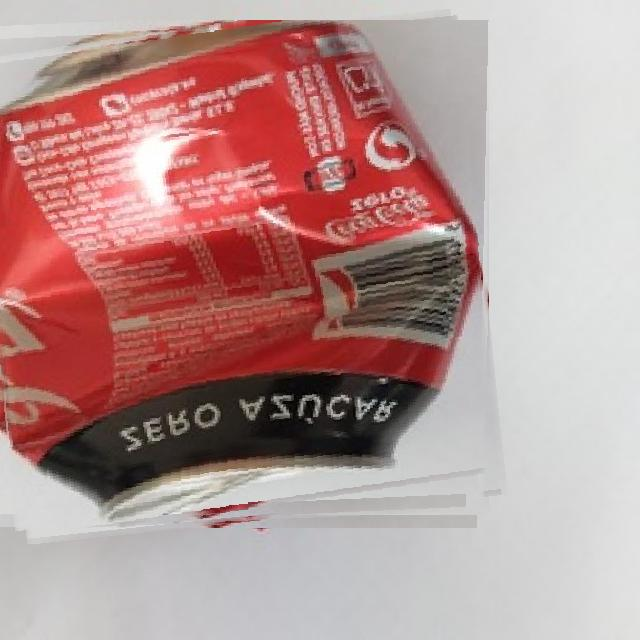recyclable: (0, 20, 495, 532)
